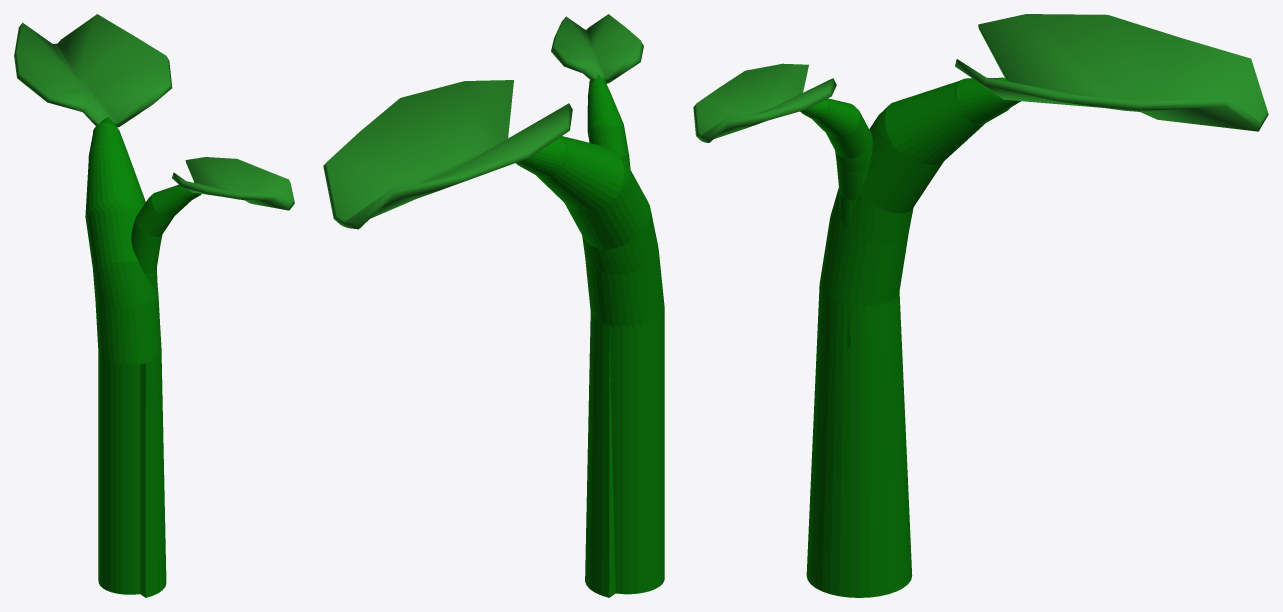
The model's file is Plant_1.fbx.
3 renders of one model, left to right at view 1: azimuth 30°, elevation 25°; view 2: azimuth 150°, elevation 25°; view 3: azimuth 270°, elevation 25°, orthographic. The views are drawn at different scales.
Visible parts, largest first — view 1: Cylinder.001, Plane.001; view 2: Cylinder.001, Plane.001; view 3: Cylinder.001, Plane.001.
Boxes of the visible parts, x1,y1,x2,y2 form: Cylinder.001: (85, 117, 201, 597); Plane.001: (14, 14, 294, 210); Cylinder.001: (515, 74, 664, 597); Plane.001: (323, 14, 643, 229); Cylinder.001: (800, 77, 1020, 597); Plane.001: (693, 14, 1268, 142).
Bounding box in the file's own units: 269 × 767 × 718.
Materials: 2 (2 with a texture image).
